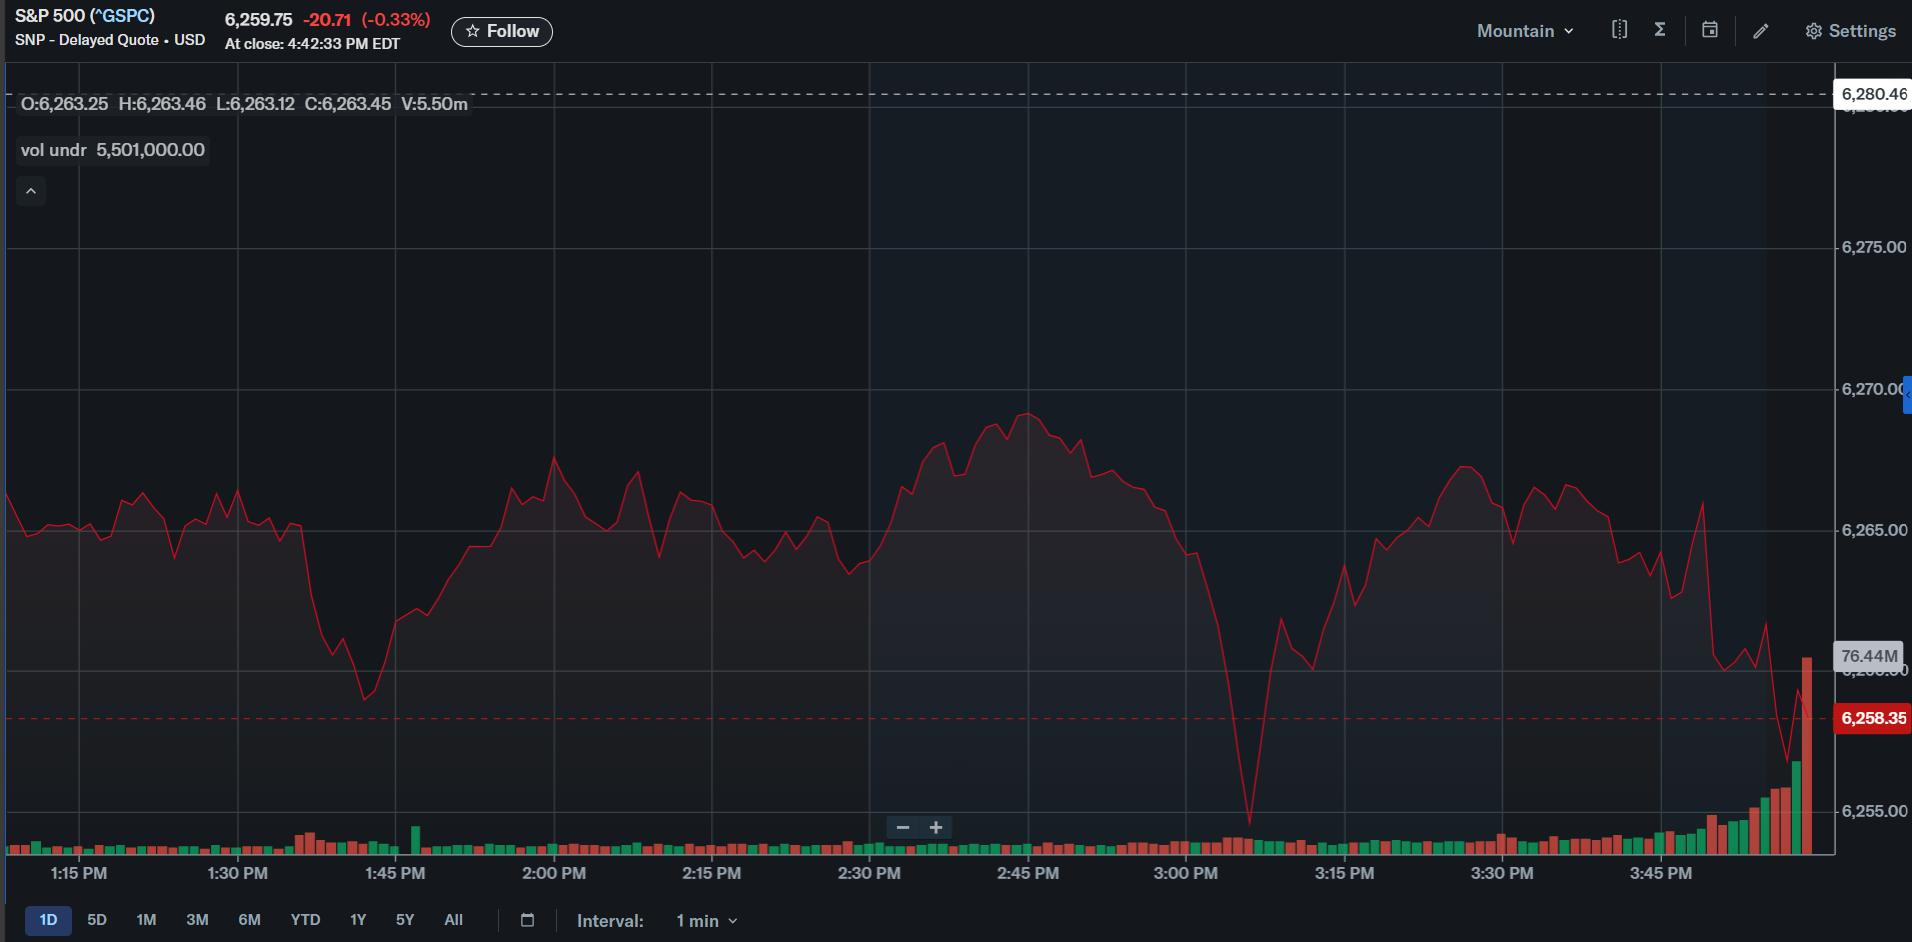Downtrend: (1021, 396, 1254, 835), (290, 508, 373, 721)
Sideways: (137, 484, 276, 564)
Uptrend: (1250, 458, 1468, 826)
